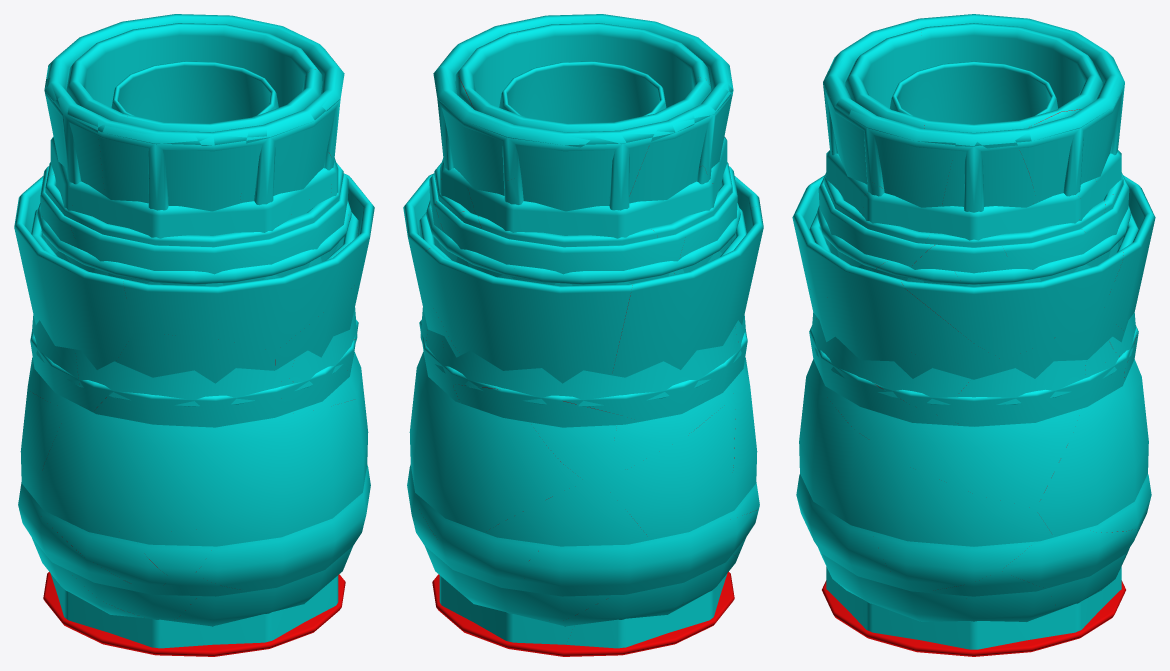
The model's file is cup_shards_grp.fbx.
The picture shows the model from 3 angles, left to right: view 1: azimuth 30°, elevation 25°; view 2: azimuth 150°, elevation 25°; view 3: azimuth 270°, elevation 25°; orthographic projection.
Visible parts, largest first — view 1: cup_28_shard_10, cup_28_shard_2, cup_25_shard_18, cup_20_shard_22, cup_25_shard_20, cup_19_shard_19, cup_24_shard_17, cup_26_shard_21, cup_29_shard_9, cup_11_shard_18, cup_25_shard_16, cup_19_shard_21 (+38 smaller); view 2: cup_25_shard_19, cup_28_shard_12, cup_25_shard_20, cup_19_shard_20, cup_28_shard_13, cup_29_shard_8, cup_28_shard_11, cup_24_shard_17, cup_20_shard_21, cup_17_shard_21, cup_11_shard_19, cup_26_shard_20 (+38 smaller); view 3: cup_28_shard_2, cup_28_shard_14, cup_28_shard_12, cup_25_shard_21, cup_25_shard_18, cup_20_shard_22, cup_24_shard_17, cup_19_shard_21, cup_11_shard_16, cup_19_shard_20, cup_29_shard_7, cup_13_shard_17 (+41 smaller).
Part boxes in pixels (left/top/right/bottom): cup_28_shard_10: left=38, top=405, right=225, bottom=532; cup_28_shard_2: left=221, top=391, right=368, bottom=545; cup_25_shard_18: left=122, top=206, right=374, bottom=351; cup_20_shard_22: left=66, top=23, right=320, bottom=122; cup_25_shard_20: left=14, top=195, right=133, bottom=369; cup_19_shard_19: left=98, top=117, right=249, bottom=211; cup_24_shard_17: left=111, top=61, right=278, bottom=123; cup_26_shard_21: left=70, top=173, right=348, bottom=286; cup_29_shard_9: left=193, top=482, right=368, bottom=591; cup_11_shard_18: left=69, top=168, right=332, bottom=238; cup_25_shard_16: left=116, top=333, right=275, bottom=383; cup_19_shard_21: left=240, top=51, right=339, bottom=203; cup_25_shard_19: left=424, top=248, right=632, bottom=383; cup_28_shard_12: left=409, top=374, right=584, bottom=532; cup_25_shard_20: left=612, top=206, right=763, bottom=377; cup_19_shard_20: left=435, top=57, right=661, bottom=211; cup_28_shard_13: left=601, top=392, right=735, bottom=539; cup_29_shard_8: left=520, top=519, right=718, bottom=596; cup_28_shard_11: left=476, top=481, right=650, bottom=620; cup_24_shard_17: left=499, top=61, right=666, bottom=123; cup_20_shard_21: left=511, top=23, right=710, bottom=107; cup_17_shard_21: left=442, top=326, right=740, bottom=406; cup_11_shard_19: left=467, top=180, right=714, bottom=238; cup_26_shard_20: left=435, top=200, right=685, bottom=286; cup_28_shard_2: left=799, top=359, right=1053, bottom=600; cup_28_shard_14: left=814, top=362, right=1081, bottom=508; cup_28_shard_12: left=1035, top=359, right=1148, bottom=537; cup_25_shard_21: left=901, top=250, right=1123, bottom=360; cup_25_shard_18: left=792, top=175, right=1003, bottom=379; cup_20_shard_22: left=921, top=23, right=1102, bottom=132; cup_24_shard_17: left=890, top=61, right=1057, bottom=124; cup_19_shard_21: left=823, top=68, right=956, bottom=207; cup_11_shard_16: left=863, top=192, right=1080, bottom=240; cup_19_shard_20: left=1006, top=22, right=1124, bottom=201; cup_29_shard_7: left=872, top=531, right=1035, bottom=592; cup_13_shard_17: left=874, top=362, right=1118, bottom=426.
Size of the model in its own units: 13.71 by 21.62 by 13.71.
